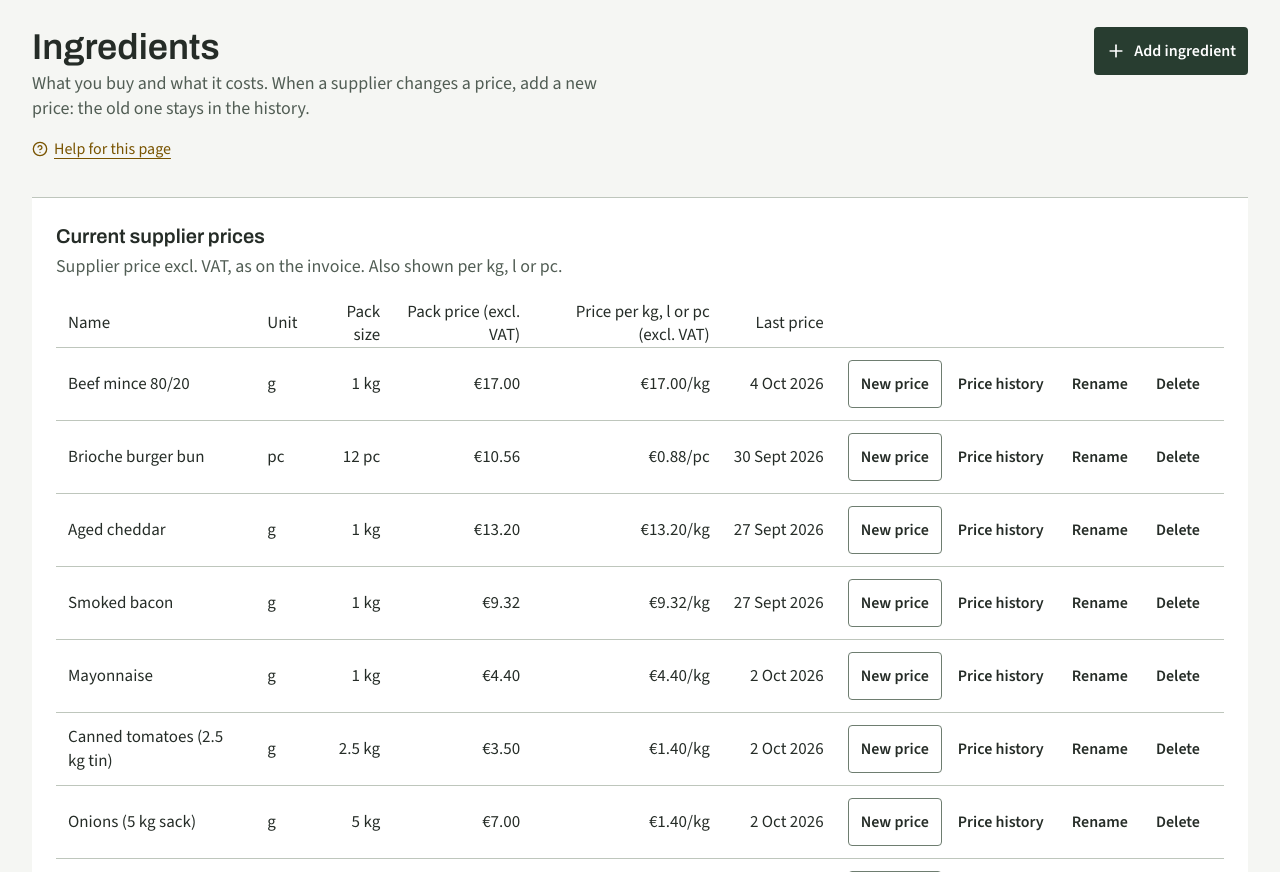
Test case: lock timeout unlocks the form, keeps the input and permits closing the dialog
(page scrolled)
Click the button "Add ingredient".
click(1171, 51)  # box [1094,27,1248,75]
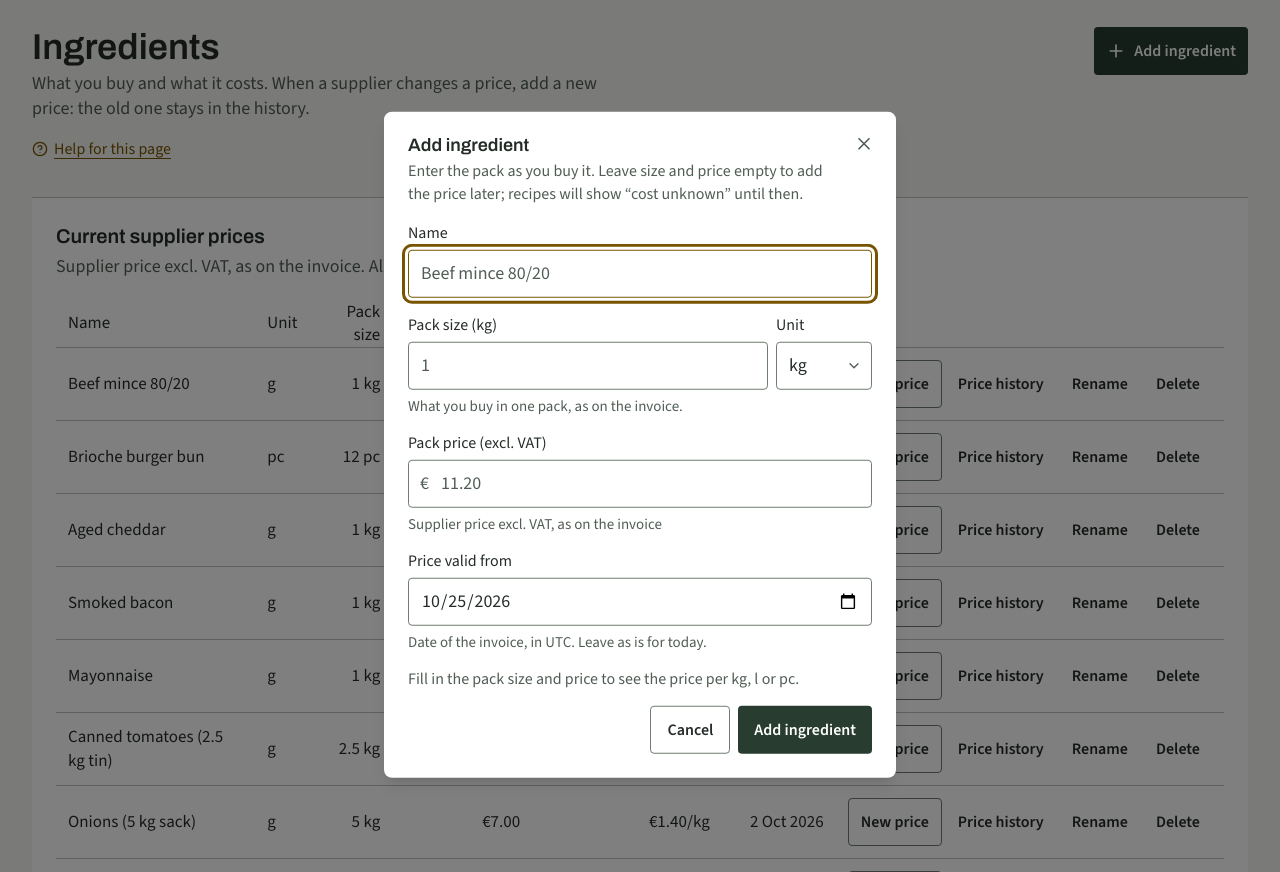
Type "Timed out draft" into the field labelled "Name".
click(640, 273); type("Timed out draft")  # box [408,249,872,297]
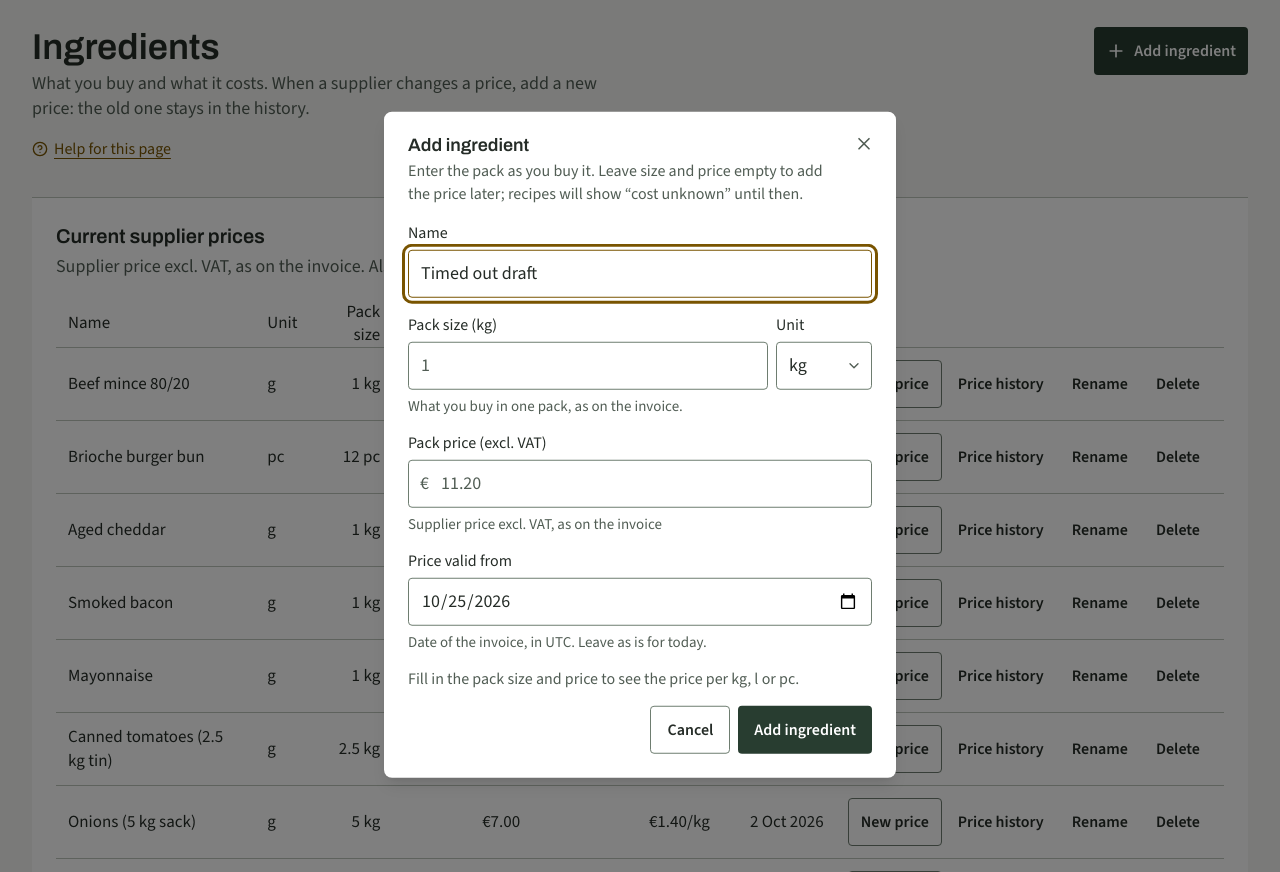
Click the button "Add ingredient".
click(805, 730)  # box [738,706,872,754]
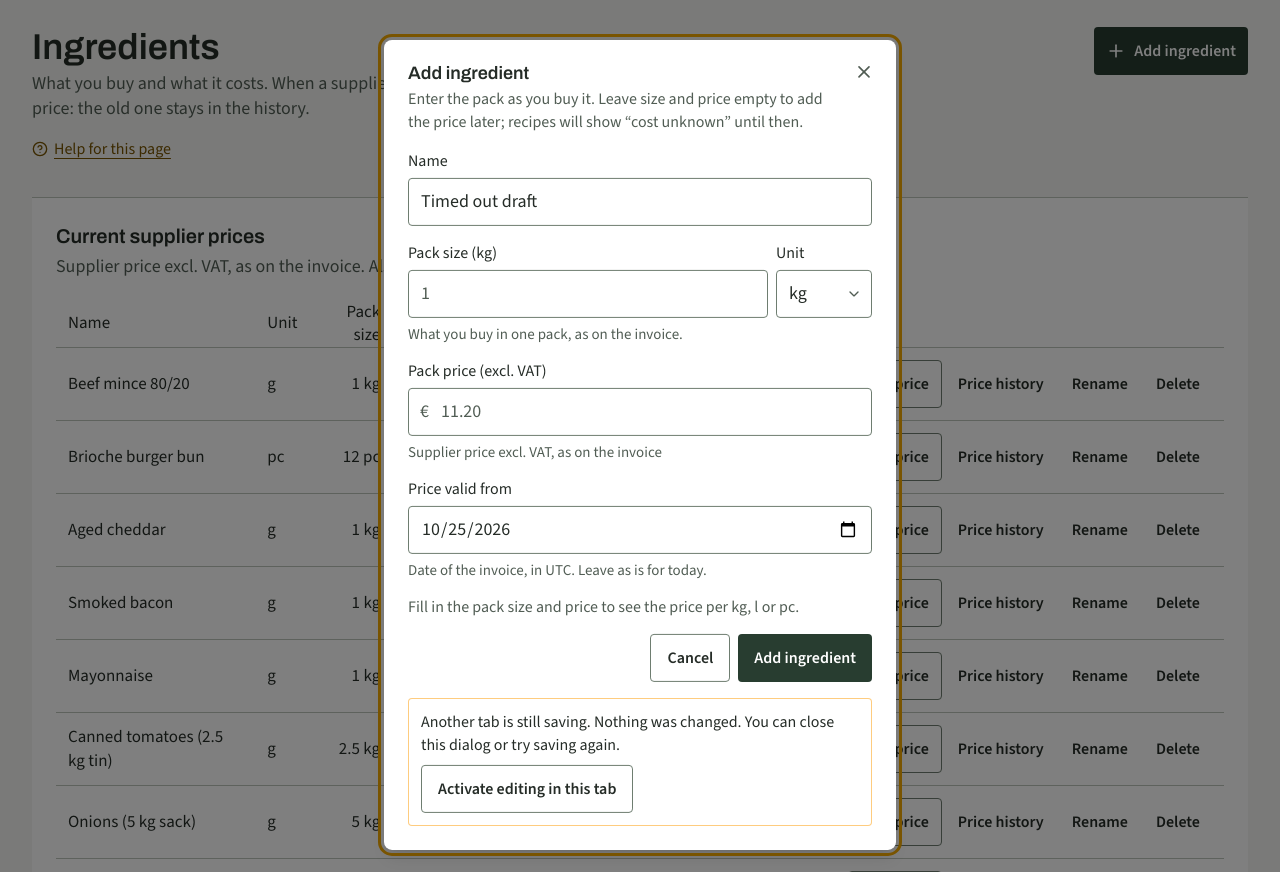
Expected: the text "Another tab is still saving" is shown, [421,711,834,755]
Press Escape
(page scrolled)
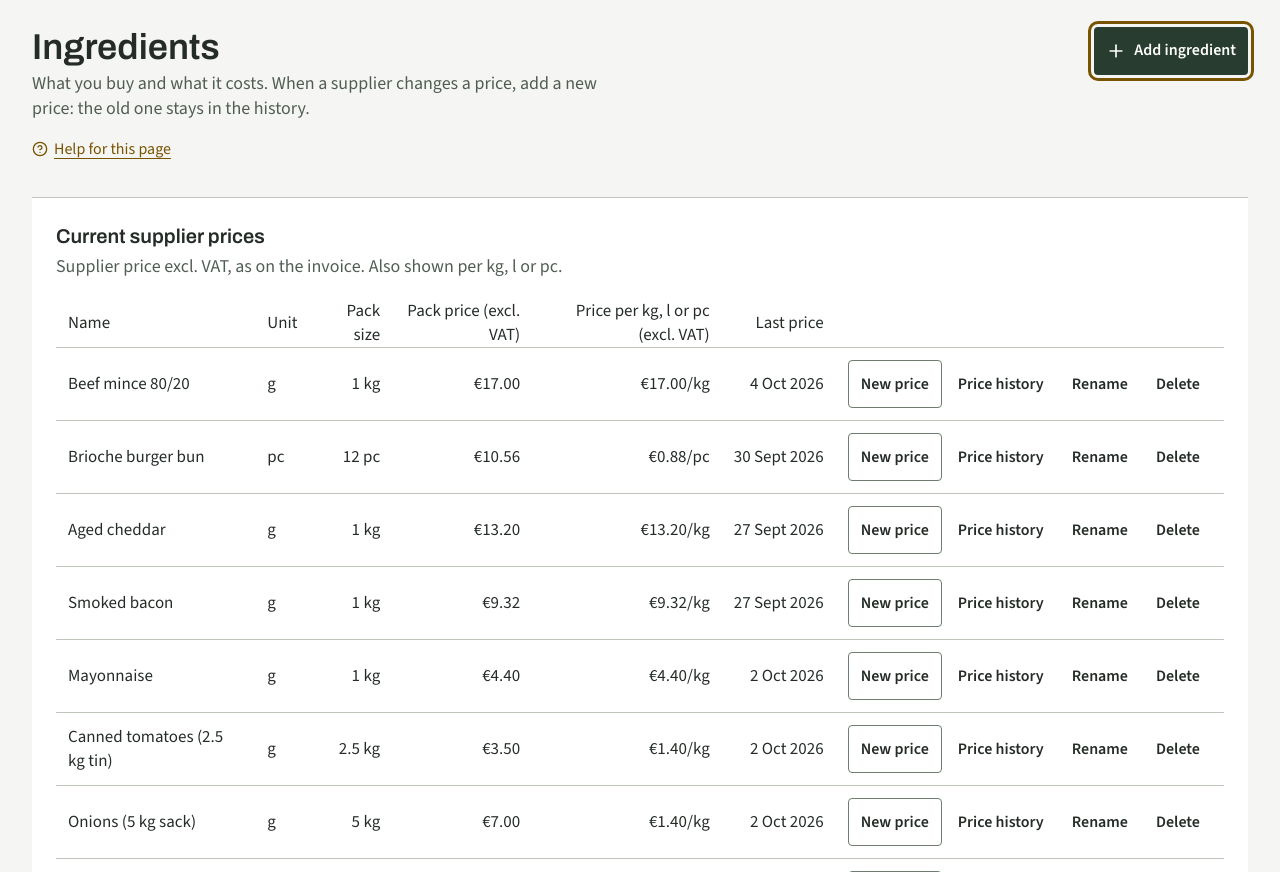
Expected: the dialog is gone
